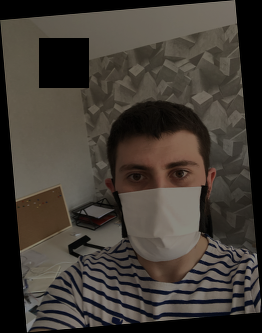with_mask: (117, 151, 211, 260)
